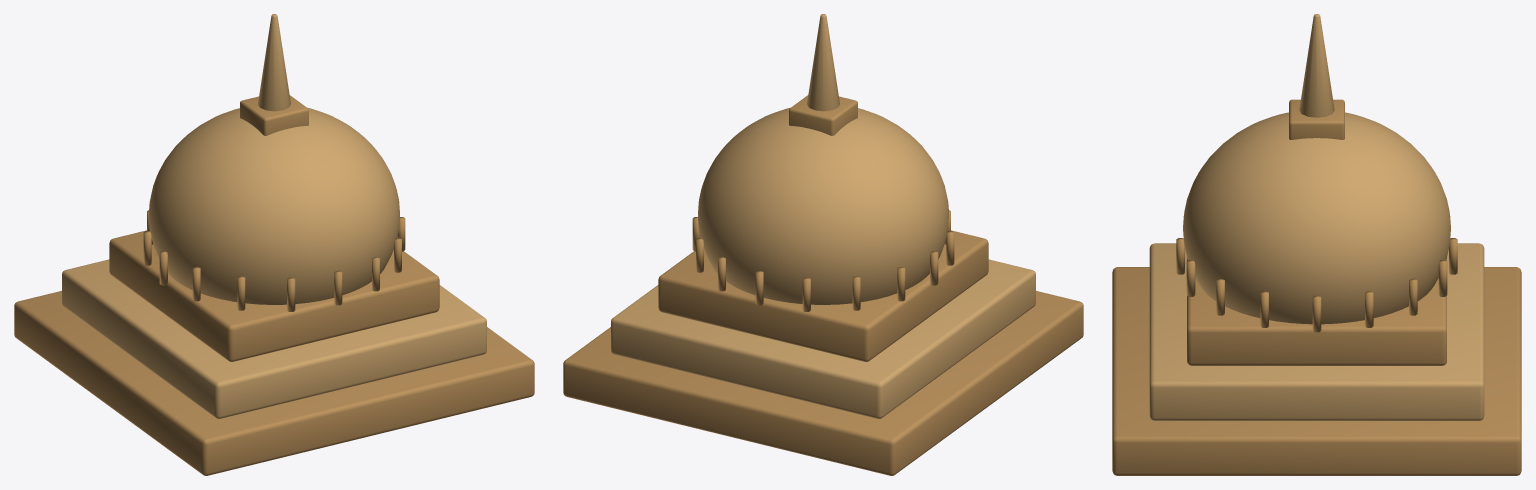
File: stupa.glb
3 renders of one model, left to right at view 1: azimuth 30°, elevation 25°; view 2: azimuth 150°, elevation 25°; view 3: azimuth 270°, elevation 25°, orthographic. The views are drawn at different scales.
Visible parts, largest first — view 1: Sphere, Cube, Cube.001, Cube.002, Cone, Cube.003; view 2: Sphere, Cube, Cube.001, Cube.002, Cone, Cube.003; view 3: Sphere, Cube, Cube.001, Cube.002, Cone, Cube.003.
Part boxes in pixels (left/top/right/bottom): Sphere: left=149, top=107, right=399, bottom=304; Cube: left=14, top=291, right=534, bottom=475; Cube.001: left=62, top=259, right=486, bottom=418; Cube.002: left=109, top=230, right=439, bottom=361; Cone: left=258, top=14, right=290, bottom=111; Cube.003: left=240, top=95, right=308, bottom=135; Sphere: left=698, top=107, right=948, bottom=304; Cube: left=563, top=291, right=1083, bottom=475; Cube.001: left=611, top=259, right=1035, bottom=418; Cube.002: left=658, top=230, right=988, bottom=361; Cone: left=807, top=14, right=839, bottom=111; Cube.003: left=789, top=95, right=857, bottom=135; Sphere: left=1183, top=112, right=1450, bottom=324; Cube: left=1112, top=267, right=1521, bottom=475; Cube.001: left=1149, top=243, right=1484, bottom=420; Cube.002: left=1187, top=258, right=1446, bottom=365; Cone: left=1299, top=14, right=1334, bottom=117; Cube.003: left=1289, top=99, right=1344, bottom=139.
Size of the model in its own units: 6.6 by 6.7 by 6.6.
